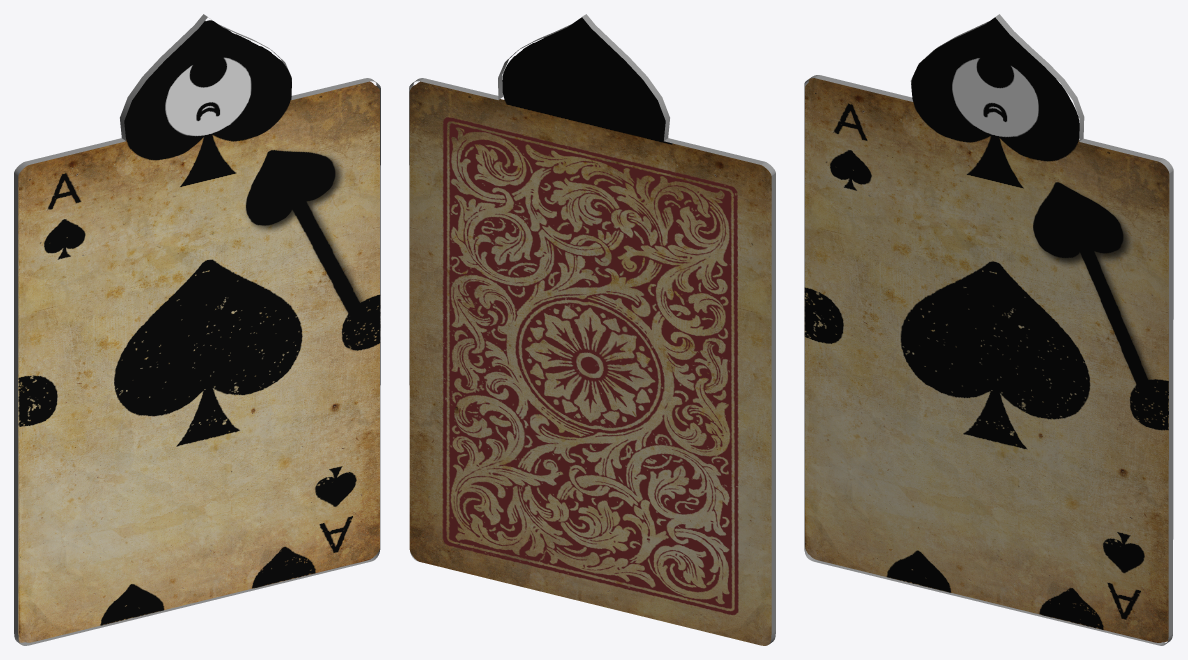
The model's file is card spade.FBX.
3 renders of one model, left to right at view 1: azimuth 30°, elevation 25°; view 2: azimuth 150°, elevation 25°; view 3: azimuth 330°, elevation 25°, orthographic.
Visible parts, largest first — view 1: Line002; view 2: Line002; view 3: Line002.
Part boxes in pixels (x1=…): Line002: x1=14, y1=14, x2=380, y2=645; Line002: x1=409, y1=14, x2=775, y2=645; Line002: x1=804, y1=14, x2=1173, y2=645.
Size of the model in its own units: 47.26 by 72.85 by 1.
3 materials, 2 textured.
